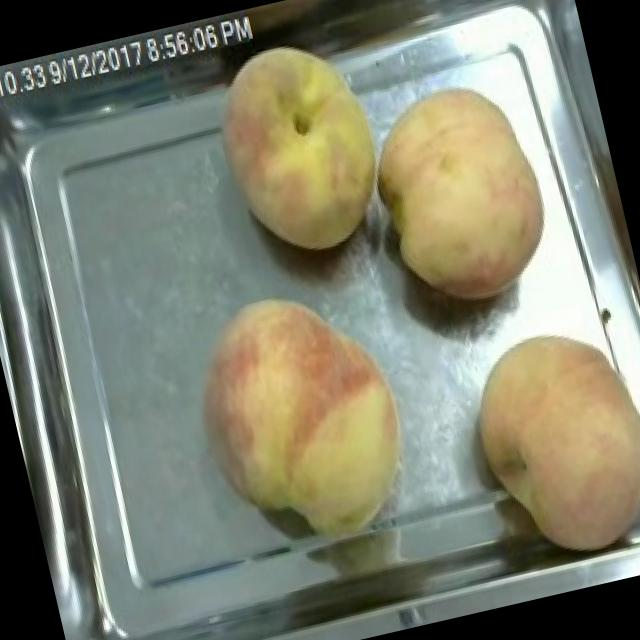Fruit: (168, 264, 433, 564), (348, 59, 574, 324), (191, 16, 409, 274), (447, 301, 640, 578)
